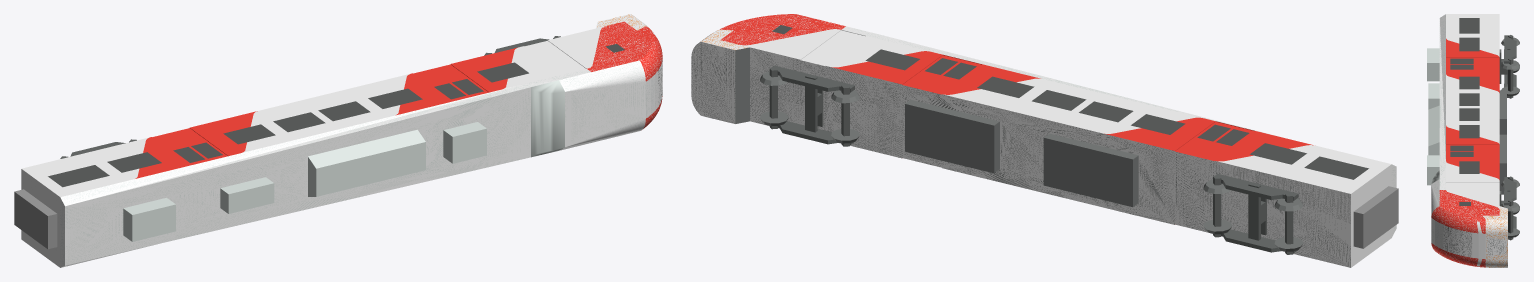
File: train_1_state_1.dae
3 views of the same model, side by side, from view 1: azimuth 30°, elevation 25°; view 2: azimuth 150°, elevation 25°; view 3: azimuth 270°, elevation 25° (orthographic). The views are drawn at different scales.
Parts seen in each view (by area): view 1: coords_ME_ID205_MA_material_2, coords_ME_ID205_MA_material_6, coords_ME_ID293_MA_material_7, coords_ME_ID527_MA_material_2, coords_ME_ID557_MA_material_2, coords_ME_ID163_MA_material_1, coords_ME_ID545_MA_material_1, coords_ME_ID191_MA_material_1, coords_ME_ID369_MA_material_7, coords_ME_ID267_MA_material_7, coords_ME_ID219_MA_material_7, coords_ME_ID305_MA_material_7 (+14 smaller); view 2: coords_ME_ID323_MA_material_2, coords_ME_ID323_MA_material_10, coords_ME_ID417_MA_material_0, coords_ME_ID311_MA_material_0, coords_ME_ID557_MA_material_2, coords_ME_ID527_MA_material_2, coords_ME_ID163_MA_material_1, coords_ME_ID545_MA_material_1, coords_ME_ID701_MA_material_2, coords_ME_ID191_MA_material_1, coords_ME_ID205_MA_material_2, coords_ME_ID461_MA_material_2 (+23 smaller); view 3: coords_ME_ID557_MA_material_2, coords_ME_ID205_MA_material_2, coords_ME_ID191_MA_material_1, coords_ME_ID163_MA_material_1, coords_ME_ID545_MA_material_1, coords_ME_ID527_MA_material_2, coords_ME_ID197_MA_material_2, coords_ME_ID381_MA_material_2, coords_ME_ID205_MA_material_6, coords_ME_ID293_MA_material_7, coords_ME_ID191_MA_material_2, coords_ME_ID461_MA_material_2 (+35 smaller).
Part boxes in pixels (left/top/right/bottom): coords_ME_ID205_MA_material_2: left=60, top=60, right=658, bottom=267; coords_ME_ID205_MA_material_6: left=60, top=61, right=658, bottom=266; coords_ME_ID293_MA_material_7: left=308, top=129, right=425, bottom=196; coords_ME_ID527_MA_material_2: left=21, top=137, right=148, bottom=267; coords_ME_ID557_MA_material_2: left=242, top=73, right=410, bottom=152; coords_ME_ID163_MA_material_1: left=135, top=111, right=257, bottom=178; coords_ME_ID545_MA_material_1: left=395, top=47, right=517, bottom=115; coords_ME_ID191_MA_material_1: left=587, top=21, right=662, bottom=81; coords_ME_ID369_MA_material_7: left=531, top=80, right=564, bottom=157; coords_ME_ID267_MA_material_7: left=123, top=197, right=175, bottom=241; coords_ME_ID219_MA_material_7: left=443, top=122, right=486, bottom=163; coords_ME_ID305_MA_material_7: left=220, top=177, right=274, bottom=213; coords_ME_ID323_MA_material_2: left=750, top=47, right=1350, bottom=267; coords_ME_ID323_MA_material_10: left=750, top=48, right=1350, bottom=267; coords_ME_ID417_MA_material_0: left=1043, top=133, right=1138, bottom=207; coords_ME_ID311_MA_material_0: left=905, top=99, right=999, bottom=173; coords_ME_ID557_MA_material_2: left=944, top=78, right=1201, bottom=133; coords_ME_ID527_MA_material_2: left=1218, top=145, right=1391, bottom=267; coords_ME_ID163_MA_material_1: left=1104, top=117, right=1313, bottom=161; coords_ME_ID545_MA_material_1: left=831, top=51, right=1040, bottom=94; coords_ME_ID701_MA_material_2: left=691, top=42, right=735, bottom=123; coords_ME_ID191_MA_material_1: left=720, top=14, right=845, bottom=45; coords_ME_ID205_MA_material_2: left=842, top=26, right=1396, bottom=237; coords_ME_ID461_MA_material_2: left=741, top=29, right=840, bottom=59; coords_ME_ID557_MA_material_2: left=1446, top=74, right=1499, bottom=143; coords_ME_ID205_MA_material_2: left=1431, top=14, right=1445, bottom=249; coords_ME_ID191_MA_material_1: left=1431, top=190, right=1499, bottom=233; coords_ME_ID163_MA_material_1: left=1446, top=38, right=1499, bottom=92; coords_ME_ID545_MA_material_1: left=1446, top=125, right=1499, bottom=179; coords_ME_ID527_MA_material_2: left=1446, top=14, right=1499, bottom=56; coords_ME_ID197_MA_material_2: left=1483, top=206, right=1507, bottom=267; coords_ME_ID381_MA_material_2: left=1443, top=225, right=1472, bottom=257; coords_ME_ID205_MA_material_6: left=1431, top=14, right=1445, bottom=247; coords_ME_ID293_MA_material_7: left=1428, top=105, right=1439, bottom=155; coords_ME_ID191_MA_material_2: left=1432, top=190, right=1498, bottom=233; coords_ME_ID461_MA_material_2: left=1446, top=190, right=1499, bottom=208.
Size of the model in its own units: 267 by 28.51 by 49.45.
